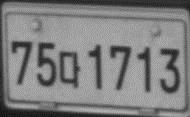1: (135, 45, 152, 93), (88, 42, 103, 92)
3: (159, 47, 181, 95)
5: (35, 41, 57, 87)
7: (9, 39, 33, 86), (108, 44, 132, 90)
다: (59, 50, 80, 89)
